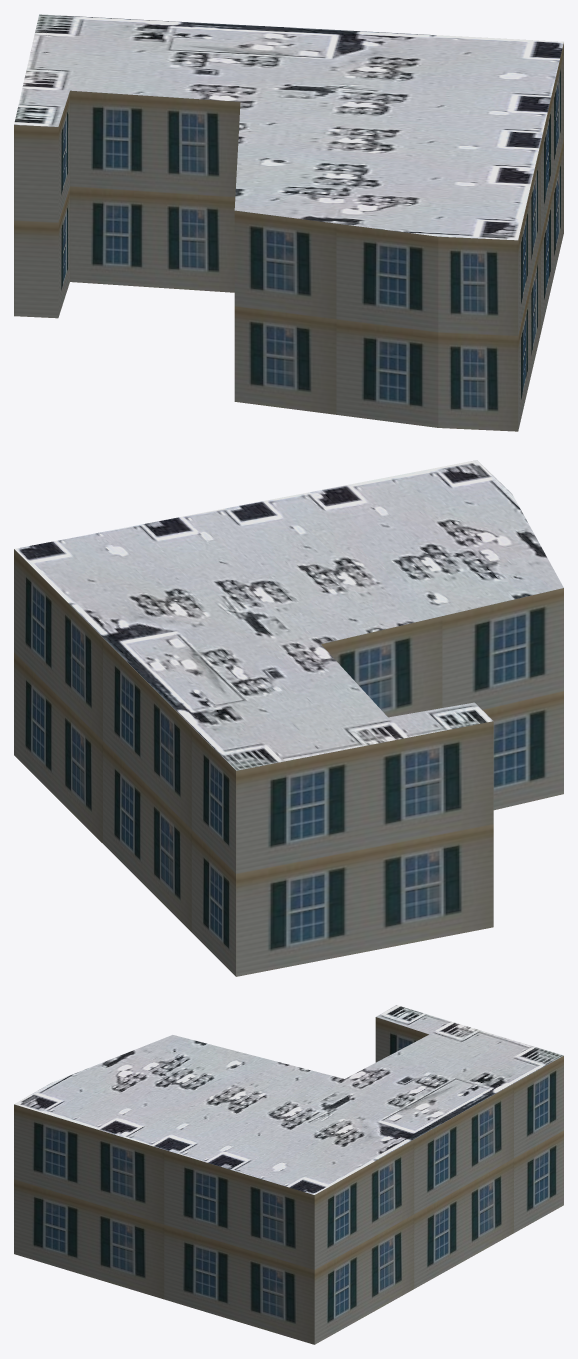
Rendered from ResTex__3608.fbx.
3 renders of one model, top to bottom at view 1: azimuth 30°, elevation 25°; view 2: azimuth 150°, elevation 25°; view 3: azimuth 270°, elevation 25°, orthographic. The views are drawn at different scales.
Parts seen in each view (by area): view 1: CityEngineMaterial_7_m, CityEngineMaterial_2_m; view 2: CityEngineMaterial_7_m, CityEngineMaterial_2_m; view 3: CityEngineMaterial_7_m, CityEngineMaterial_2_m.
Part boxes in pixels (x1=…): CityEngineMaterial_7_m: x1=14, y1=43, x2=563, y2=431; CityEngineMaterial_2_m: x1=14, y1=14, x2=563, y2=240; CityEngineMaterial_7_m: x1=14, y1=549, x2=563, y2=976; CityEngineMaterial_2_m: x1=14, y1=460, x2=563, y2=770; CityEngineMaterial_7_m: x1=14, y1=1017, x2=563, y2=1344; CityEngineMaterial_2_m: x1=14, y1=1005, x2=563, y2=1194.
Size of the model in its own units: 16.33 by 6 by 19.97.
2 materials, 2 textured.
